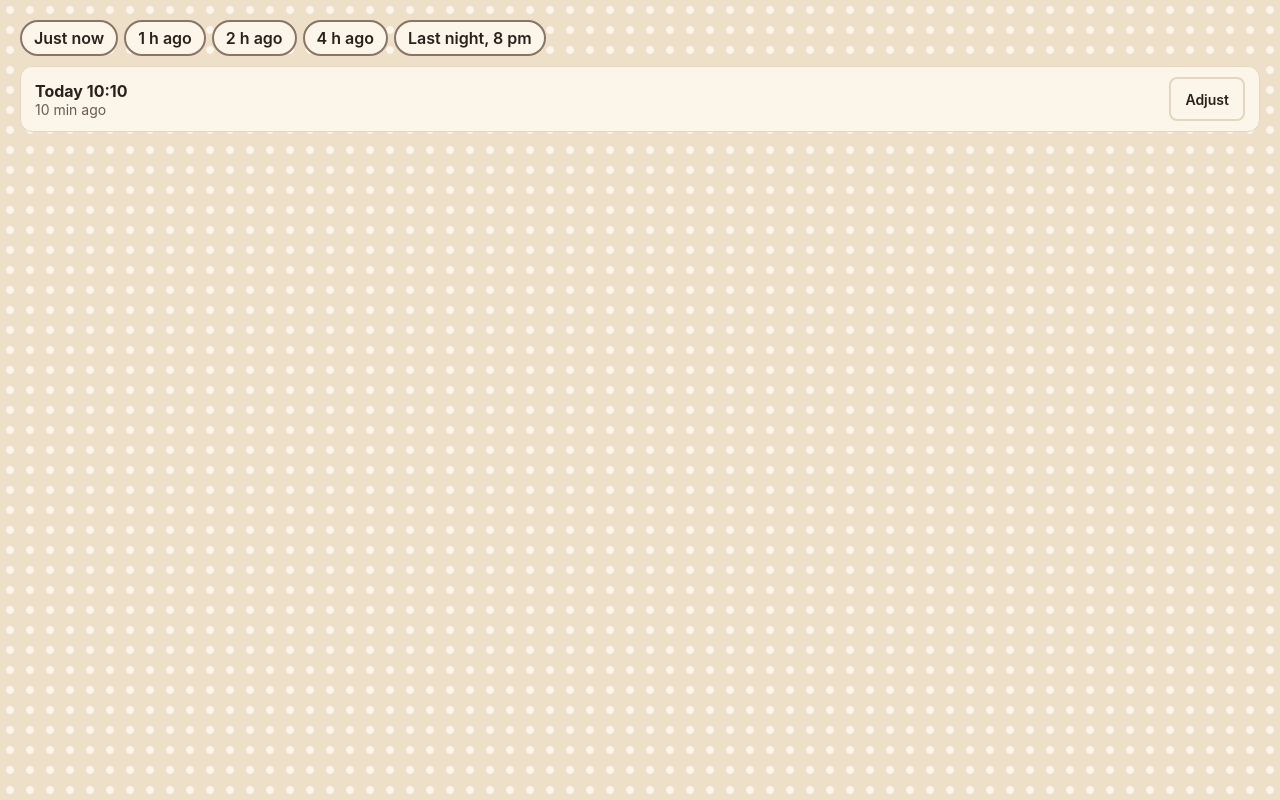
feed time picker › cannot go into the future, and says so
Click the button "Adjust".
click(1207, 99)  # box [1169,77,1245,121]
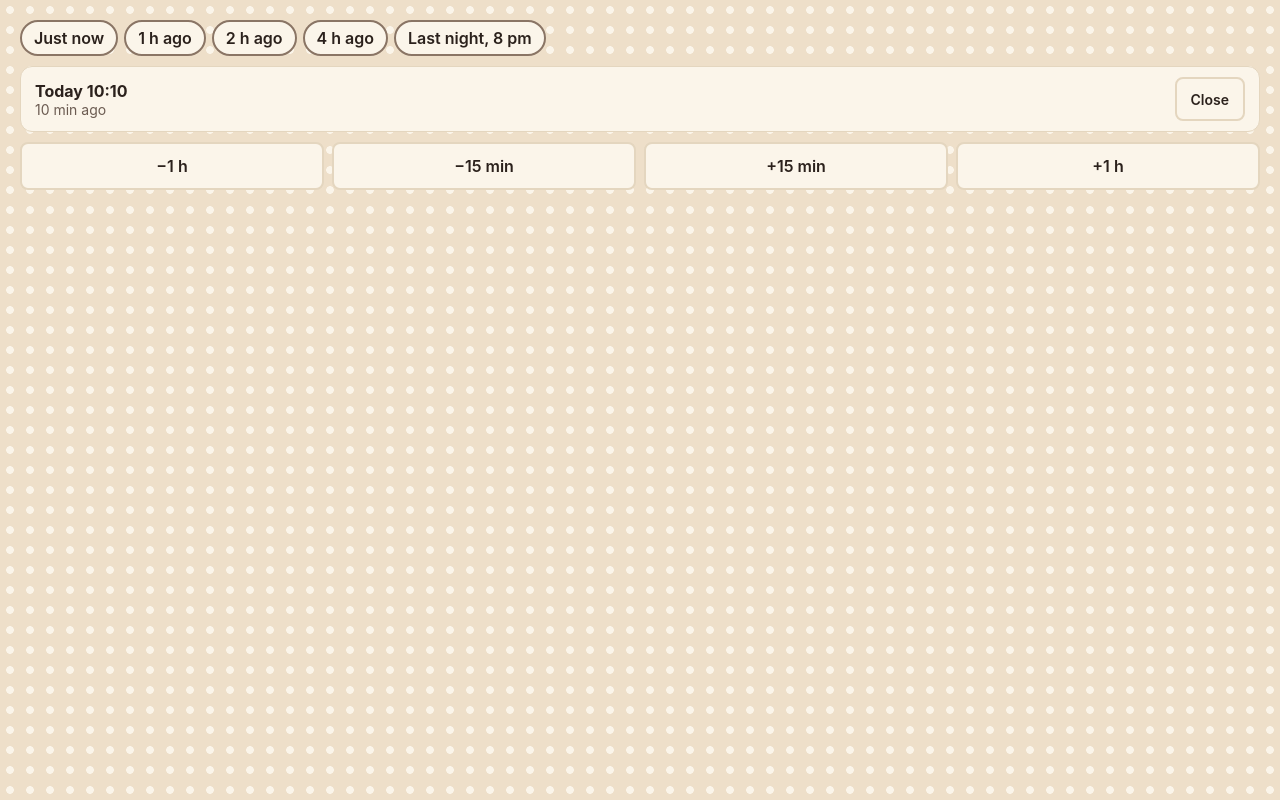
Click the button named "One hour later".
click(1108, 166)  # box [956,142,1260,190]
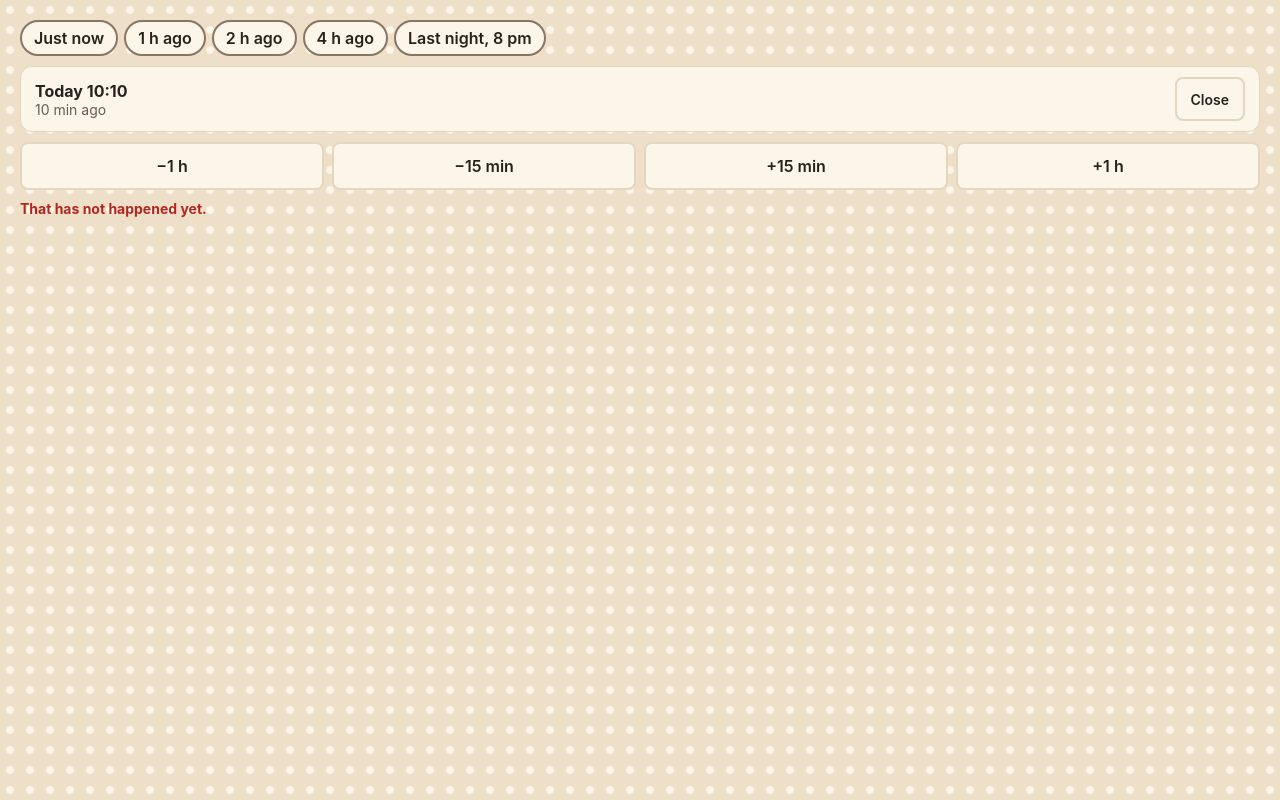
Expected: the message "Today 10:10 10 min ago Close" is shown, [20,66,1260,132]
Now the message "That has not happened yet." is shown, box [20,200,207,217]
Click the button with aria-label "15 minutes earlier".
click(484, 166)  # box [332,142,636,190]
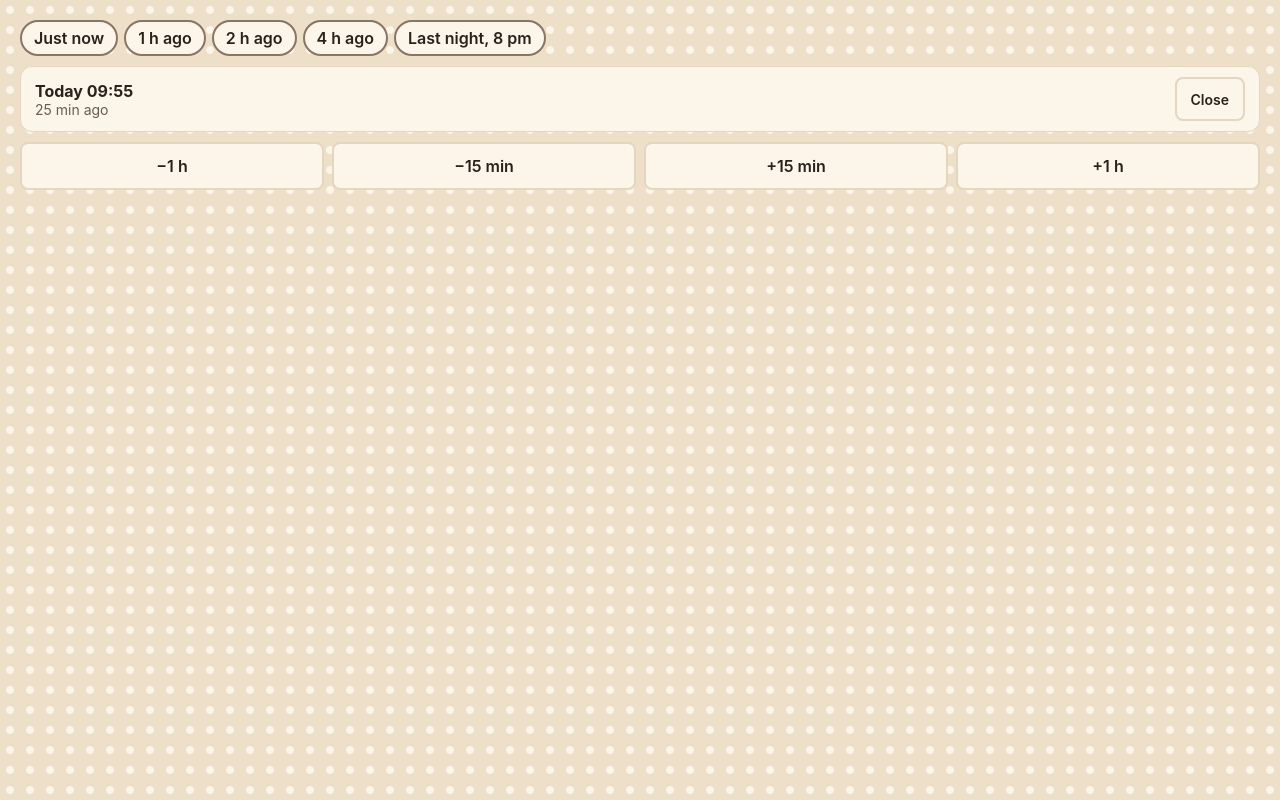
Now the message "That has not happened yet." is gone
